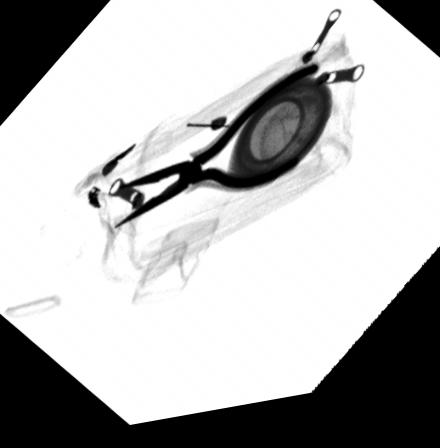Pliers: (113, 72, 319, 234)
